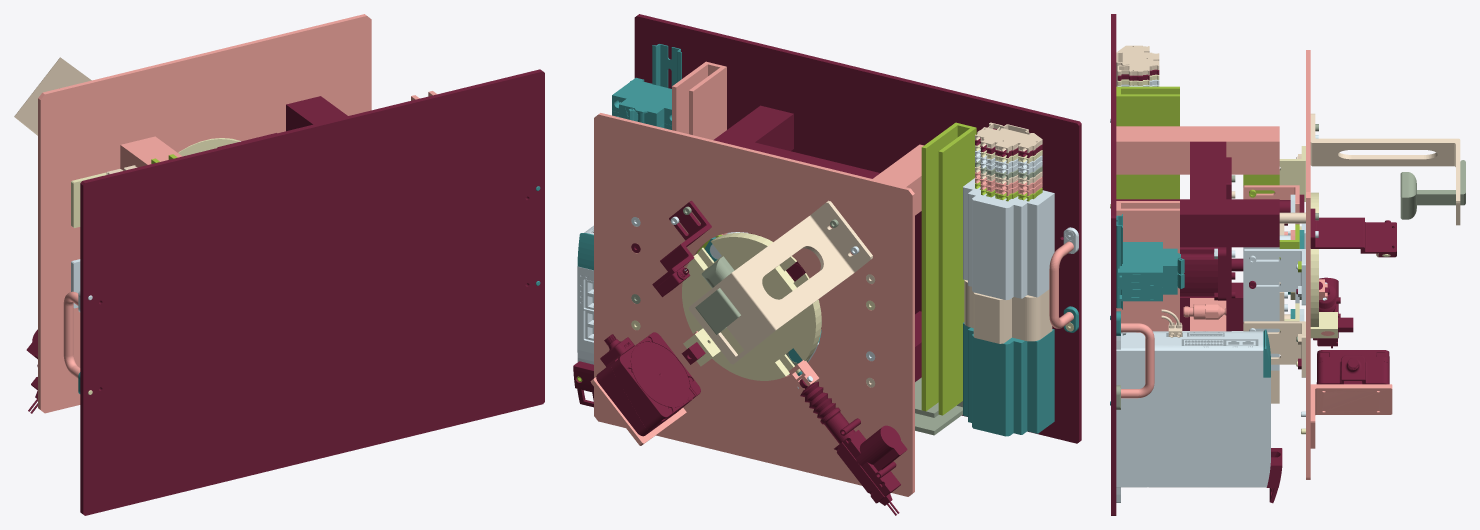
Rendered from MechanismKit.glb.
3 renders of one model, left to right at view 1: azimuth 30°, elevation 25°; view 2: azimuth 150°, elevation 25°; view 3: azimuth 270°, elevation 25°, orthographic. The views are drawn at different scales.
Parts seen in each view (by area): view 1: mech; view 2: mech; view 3: mech.
Boxes of the visible parts, x1,y1,x2,y2 form: mech: (14,14,544,515); mech: (573,14,1081,515); mech: (1110,14,1465,515).
Bounding box in the file's own units: 0.5322 × 0.3698 × 0.3919.
